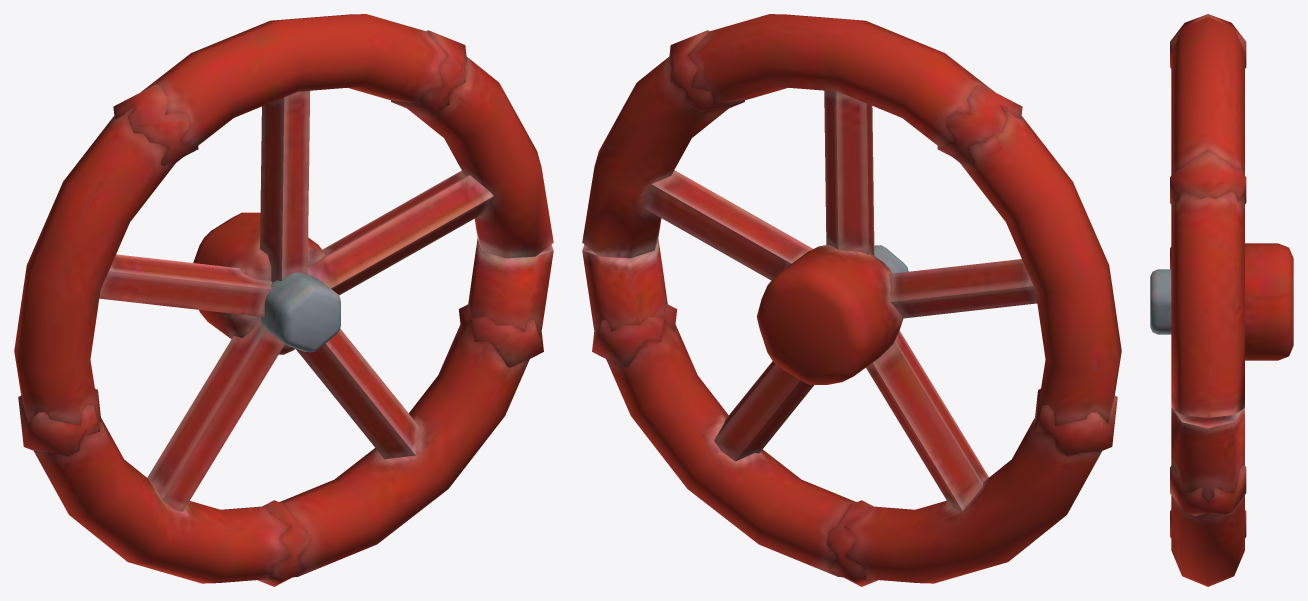
File: valve_wheel.glb
The picture shows the model from 3 angles, left to right: view 1: azimuth 30°, elevation 25°; view 2: azimuth 150°, elevation 25°; view 3: azimuth 270°, elevation 25°; orthographic projection. The views are drawn at different scales.
Parts seen in each view (by area): view 1: valve_wheel; view 2: valve_wheel; view 3: valve_wheel.
Part boxes in pixels (x1=…): valve_wheel: x1=14, y1=14, x2=553, y2=586; valve_wheel: x1=582, y1=14, x2=1121, y2=586; valve_wheel: x1=1150, y1=14, x2=1293, y2=586.
Bounding box in the file's own units: 0.2178 × 0.2209 × 0.0545.
1 material, 1 textured.
